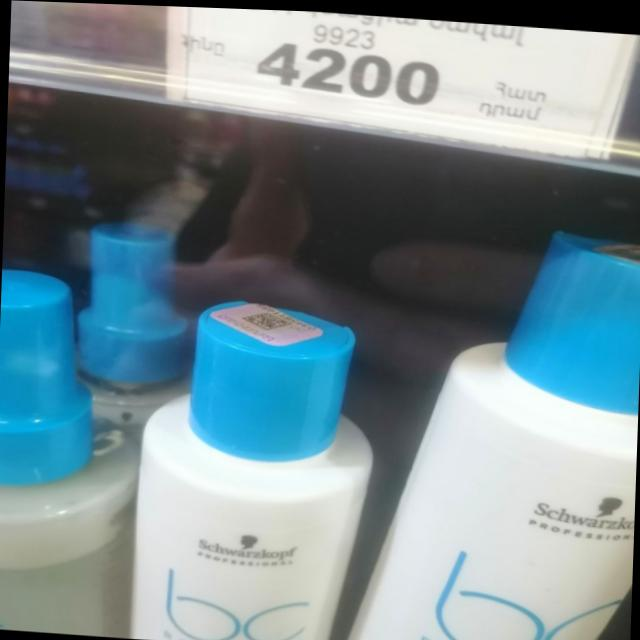datamatrix: (242, 308, 295, 330)
